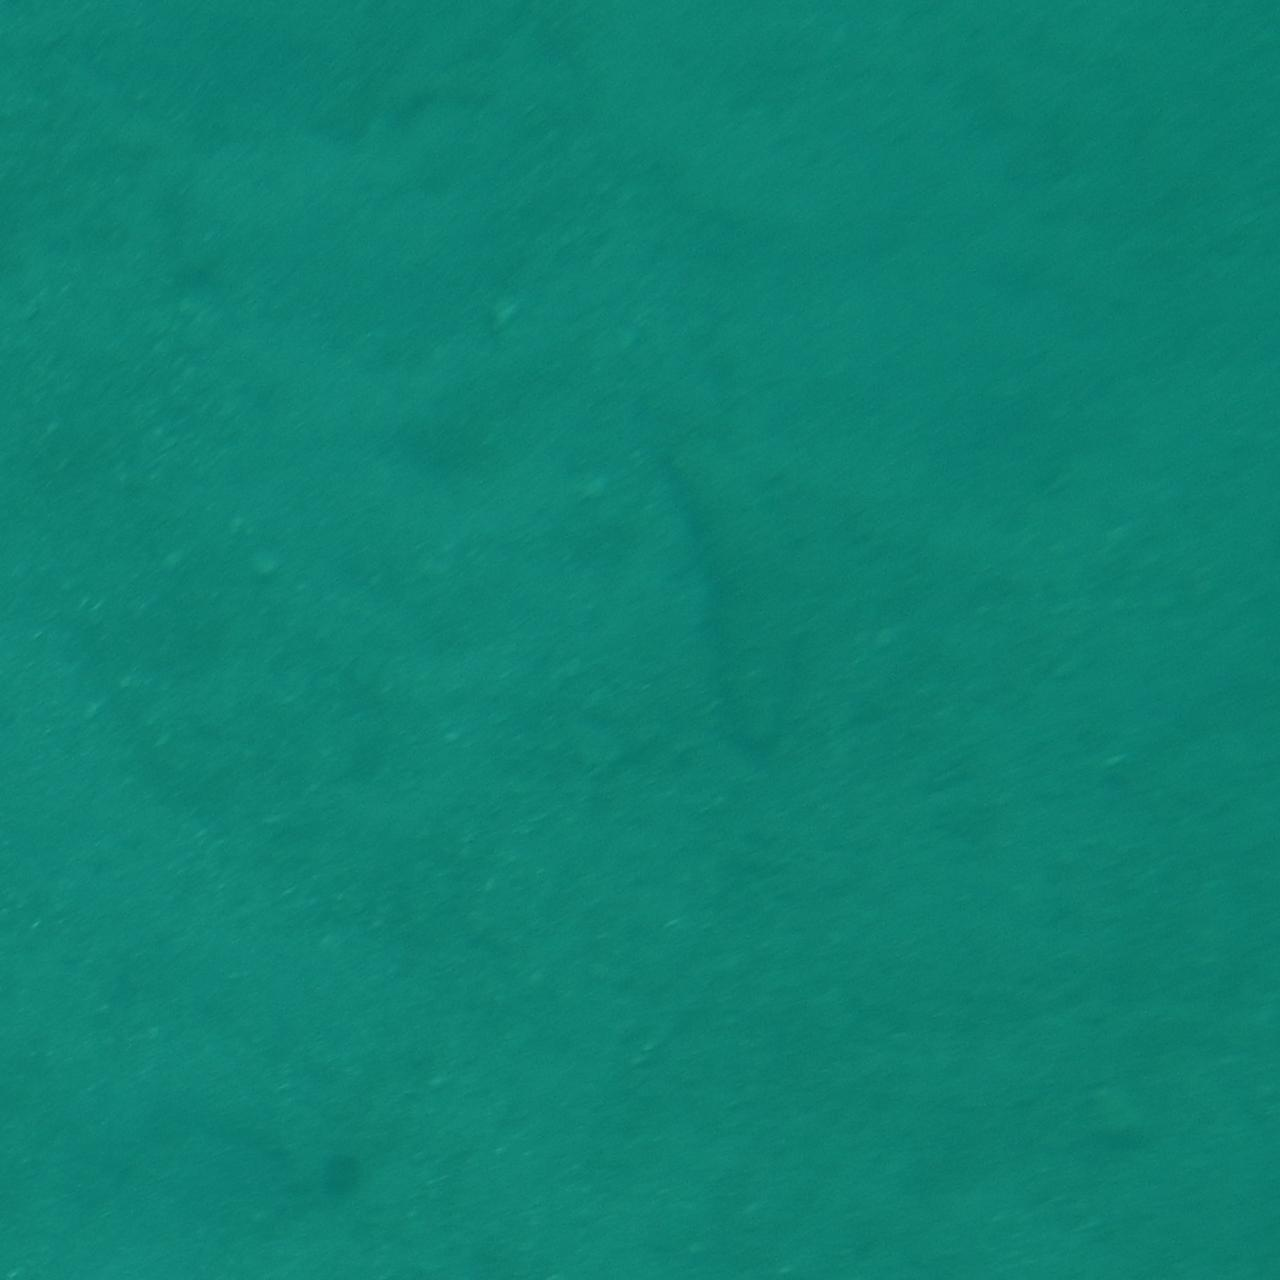Holothuria tubulosa: (651, 417, 821, 765)
